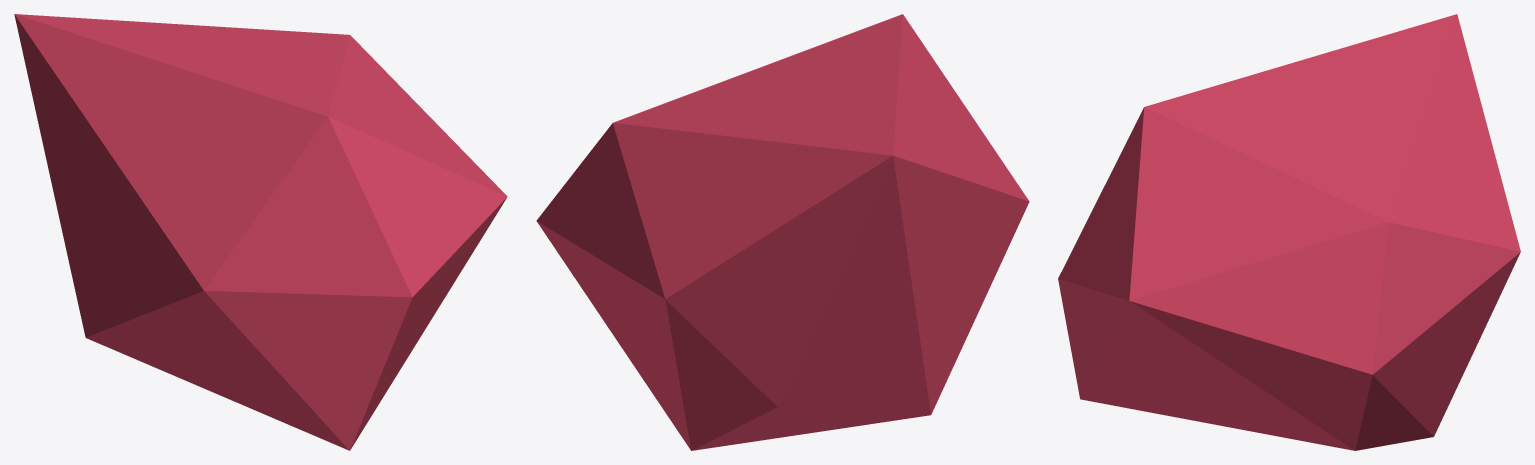
The model's file is obs1.fbx.
3 renders of one model, left to right at view 1: azimuth 30°, elevation 25°; view 2: azimuth 150°, elevation 25°; view 3: azimuth 270°, elevation 25°, orthographic. The views are drawn at different scales.
Parts seen in each view (by area): view 1: obs1.004; view 2: obs1.004; view 3: obs1.004.
Part boxes in pixels (x1,y1,x2,y2): obs1.004: (14,14,507,450); obs1.004: (536,14,1029,450); obs1.004: (1058,14,1520,450).
Bounding box in the file's own units: 319 × 270 × 347.
